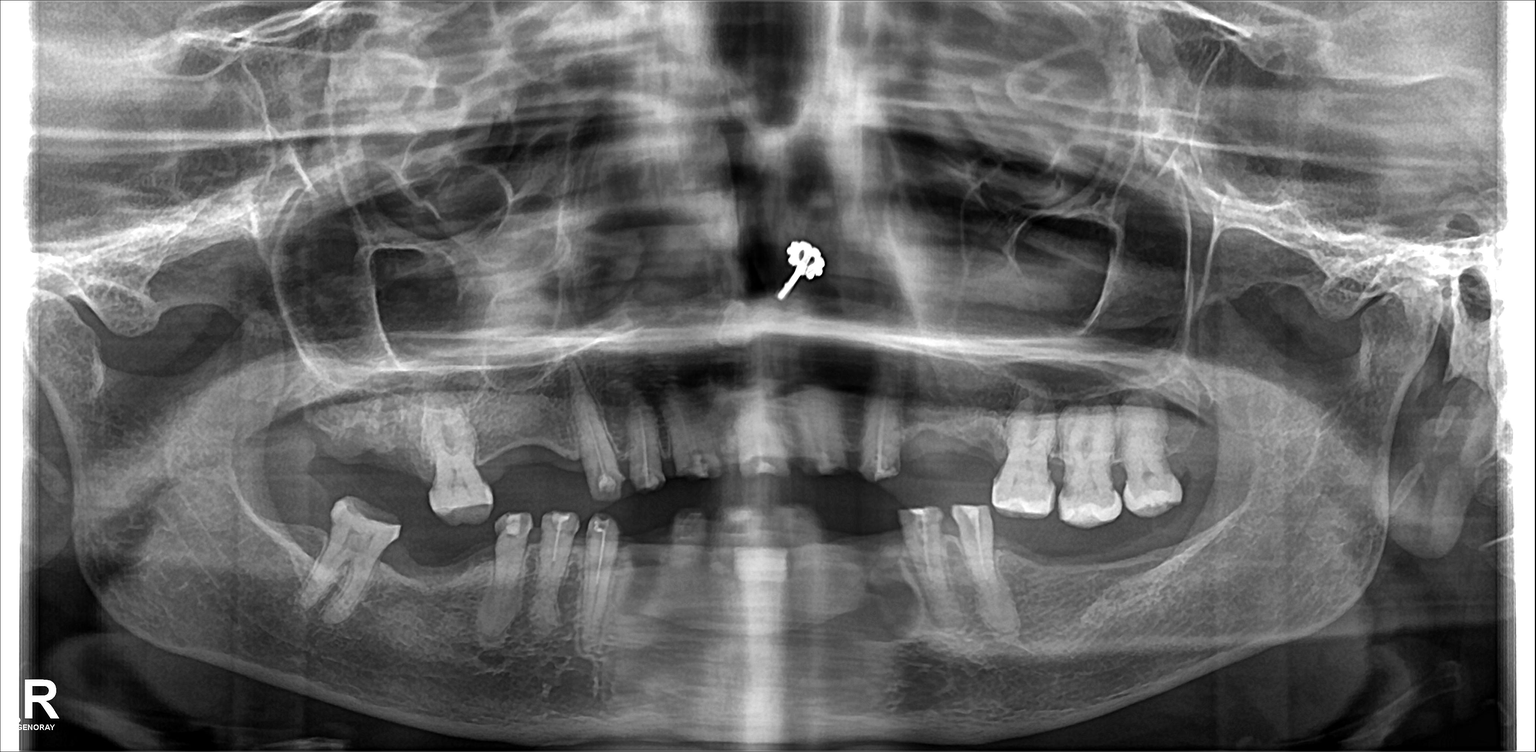Dental Caries: (1043, 458, 1077, 487), (1104, 462, 1134, 493)
Endodontically Treated Tooth: (903, 512, 949, 634), (536, 512, 575, 643), (957, 510, 1001, 624), (577, 387, 615, 498), (585, 514, 614, 652), (667, 389, 709, 477), (628, 402, 663, 493), (872, 410, 906, 489)
Missing Tooth: (1086, 529, 1162, 642), (1009, 523, 1079, 629), (682, 521, 737, 640), (406, 527, 468, 627), (823, 525, 873, 646), (752, 517, 797, 645), (1177, 516, 1226, 627), (291, 389, 340, 495), (534, 391, 581, 498), (905, 404, 964, 487), (479, 402, 530, 496), (343, 400, 381, 509), (268, 510, 313, 597), (633, 519, 666, 631), (1170, 400, 1211, 490), (384, 411, 419, 511)
